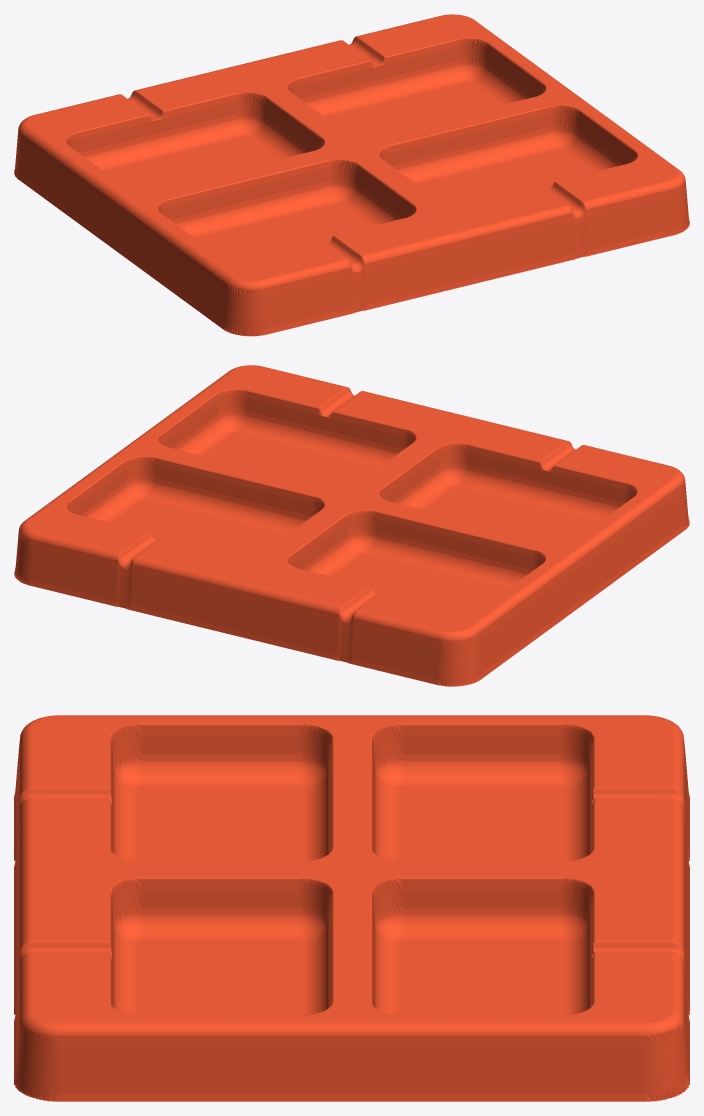
Rendered from mold.glb.
3 views of the same model, one above another, from view 1: azimuth 30°, elevation 25°; view 2: azimuth 150°, elevation 25°; view 3: azimuth 270°, elevation 25° (orthographic). The views are drawn at different scales.
Visible parts, largest first — view 1: geometry_0; view 2: geometry_0; view 3: geometry_0.
Part boxes in pixels (x1,y1,x2,y2): geometry_0: (14, 14, 689, 336); geometry_0: (14, 365, 689, 686); geometry_0: (14, 715, 689, 1101).
Size of the model in its own units: 0.1497 by 0.0155 by 0.1329.
